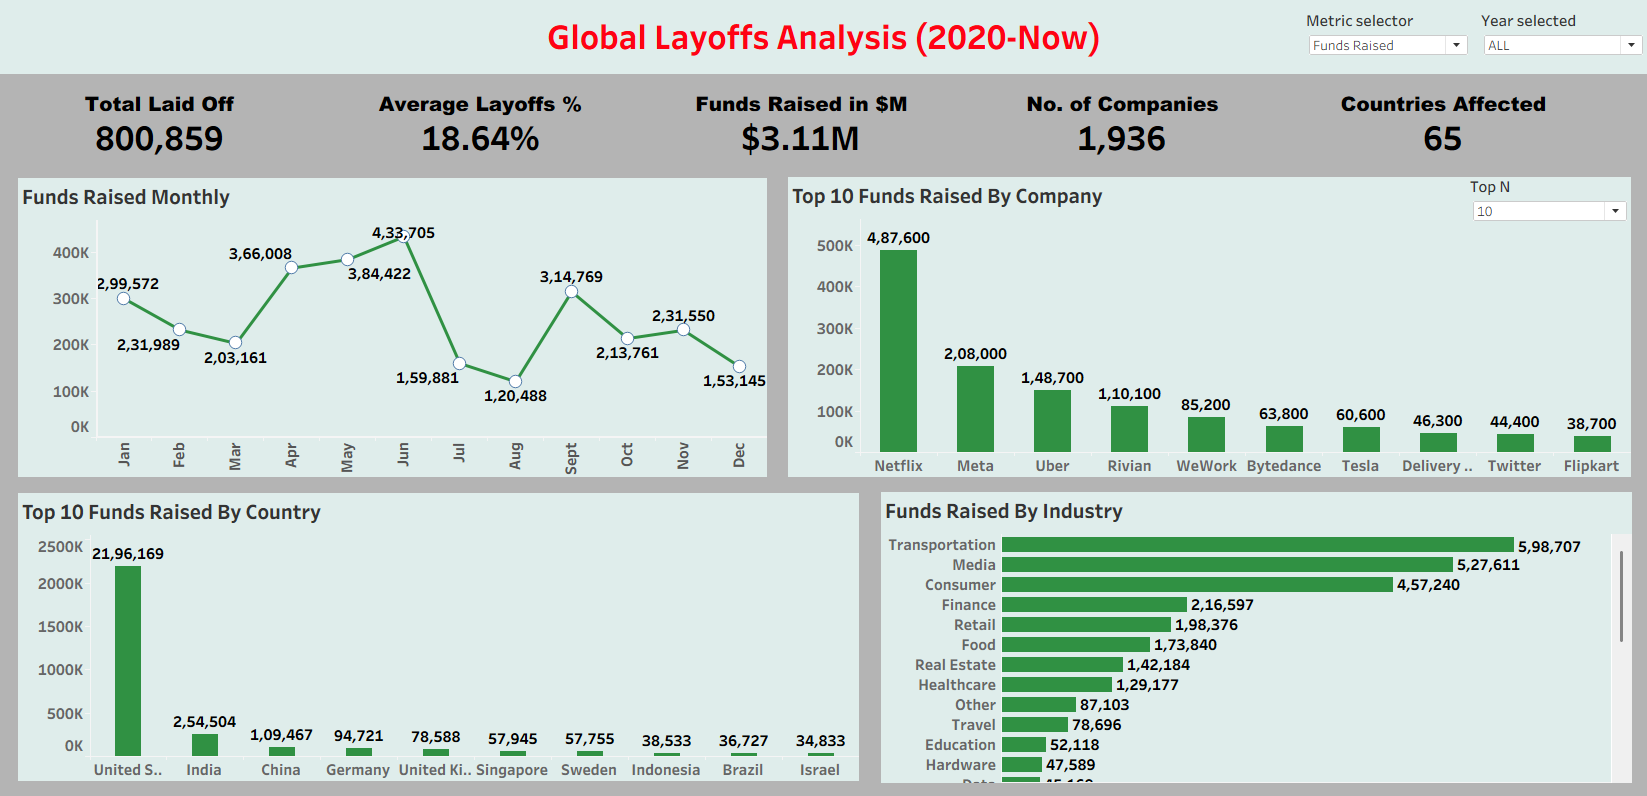

This screenshot's page, from the dashboard's own definition file:
{"tool":"tableau","page":{"name":"Dashboard 1","canvas":[1650,800],"ordinal":0},"visuals":[{"type":"text","box":[0,0,1650,76]},{"type":"parameter","param":"[Parameters].[Parameter 1]","box":[1307,12,165,49]},{"type":"parameter","param":"[Parameters].[Parameter 2]","box":[1482,12,165,48]},{"type":"worksheet","title":"KPI","mark":"Automatic","box":[0,76,1650,92]},{"type":"parameter","param":"[Parameters].[Parameter 3]","box":[1471,178,160,48]},{"type":"worksheet","title":"companies","mark":"Automatic","rows":["Calculation_560416695730585601"],"cols":["company"],"box":[789,179,843,300]},{"type":"worksheet","title":"time layoffs","mark":"Line","rows":["Calculation_560416695730585601","Calculation_560416695730585601"],"cols":["months"],"box":[19,180,749,299]},{"type":"worksheet","title":"By industry","mark":"Automatic","rows":["industry"],"cols":["Calculation_560416695730585601"],"box":[882,494,751,291]},{"type":"worksheet","title":"Top N","mark":"Automatic","rows":["Calculation_560416695730585601"],"cols":["country"],"box":[19,495,841,288]}]}

Visuals, with their boxes in screenshot pixels (x1, y1, x2, y2), scaled from the page's 1650x800 canvas onto the 1647x796 screenshot:
text: [x1=0, y1=0, x2=1646, y2=76]
parameter: [x1=1305, y1=12, x2=1469, y2=61]
parameter: [x1=1479, y1=12, x2=1644, y2=60]
"KPI" worksheet: [x1=0, y1=76, x2=1646, y2=167]
parameter: [x1=1468, y1=177, x2=1628, y2=225]
"companies" worksheet: [x1=788, y1=178, x2=1629, y2=477]
"time layoffs" worksheet (Line marks): [x1=19, y1=179, x2=767, y2=477]
"By industry" worksheet: [x1=880, y1=492, x2=1630, y2=781]
"Top N" worksheet: [x1=19, y1=493, x2=858, y2=779]
